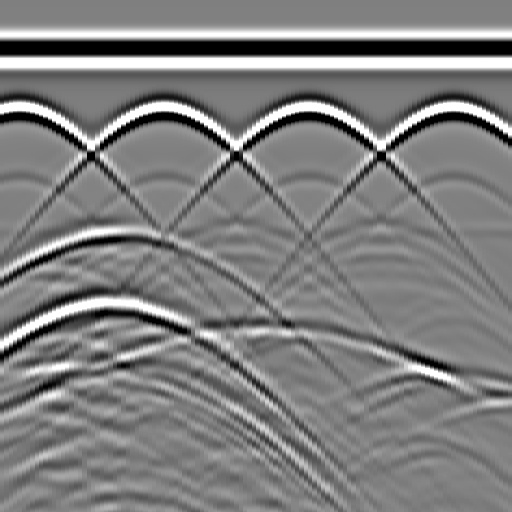grout_surface: (1, 216, 512, 246)
rebar: (142, 90, 182, 130), (286, 90, 326, 130), (430, 90, 470, 130)
rock_surface: (1, 328, 511, 401)
water_void: (84, 208, 144, 248)
